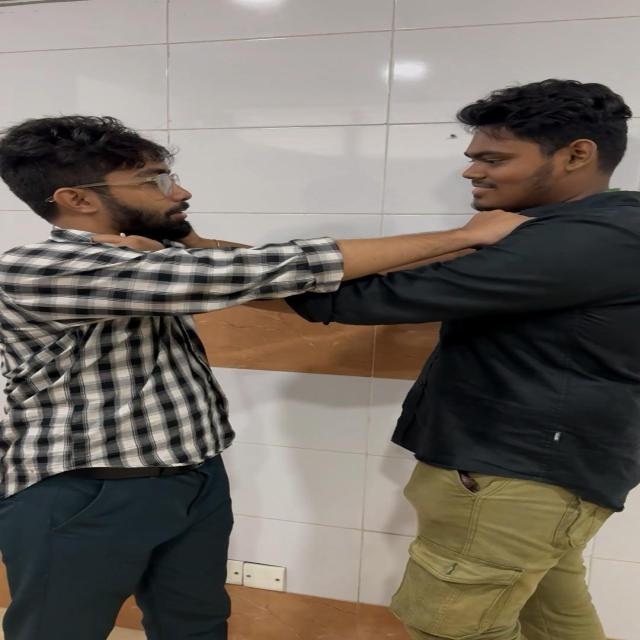fight: (1, 51, 640, 640)
